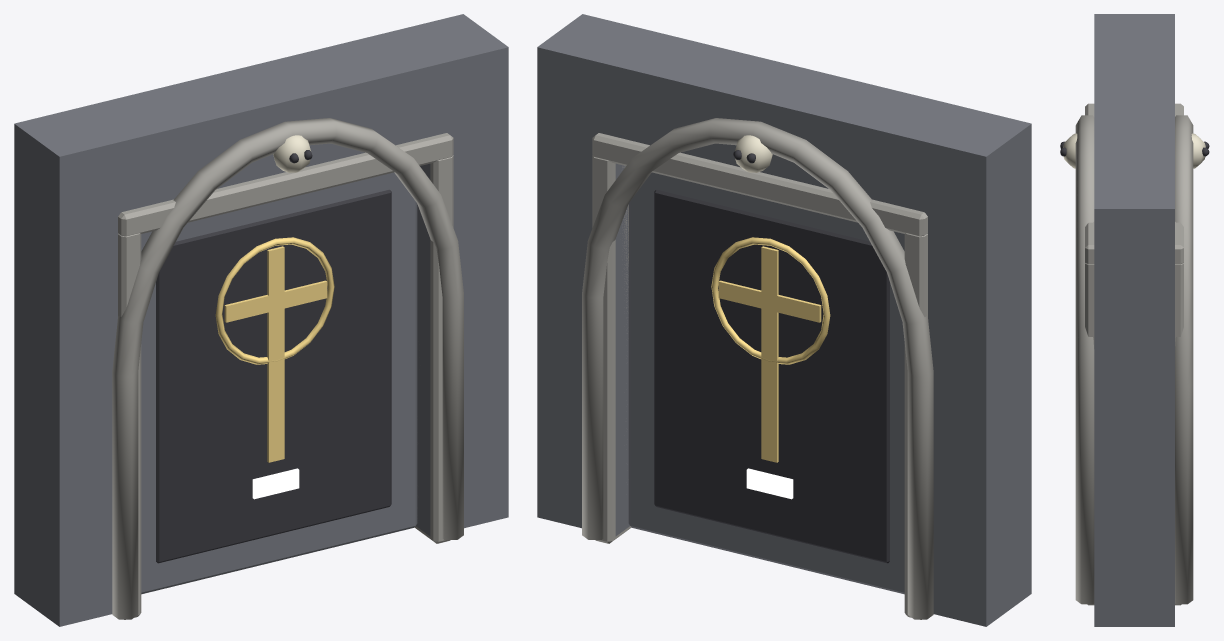
The model's file is door_cr_slab.glb.
3 renders of one model, left to right at view 1: azimuth 30°, elevation 25°; view 2: azimuth 150°, elevation 25°; view 3: azimuth 270°, elevation 25°, orthographic. The views are drawn at different scales.
Visible parts, largest first — view 1: frame, slab; view 2: frame, slab; view 3: frame.
Part boxes in pixels (bbox=[...]): frame: bbox=[14, 14, 508, 626]; slab: bbox=[141, 172, 417, 594]; frame: bbox=[537, 14, 1031, 626]; slab: bbox=[628, 172, 904, 594]; frame: bbox=[1060, 14, 1209, 626].
Bounding box in the file's own units: 4 × 4.05 × 1.29.
